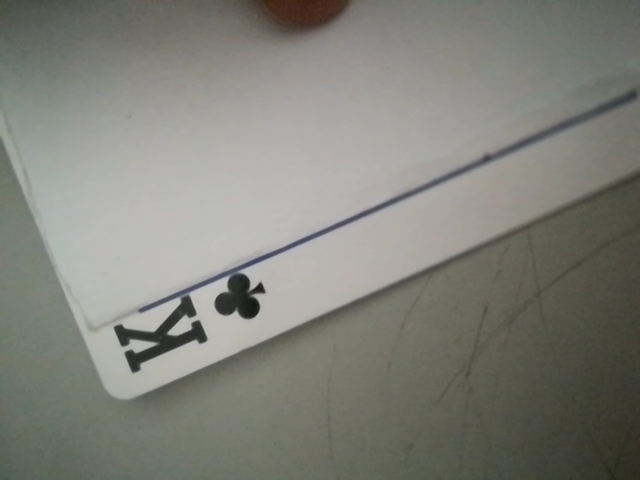mh k: (96, 261, 286, 389)
